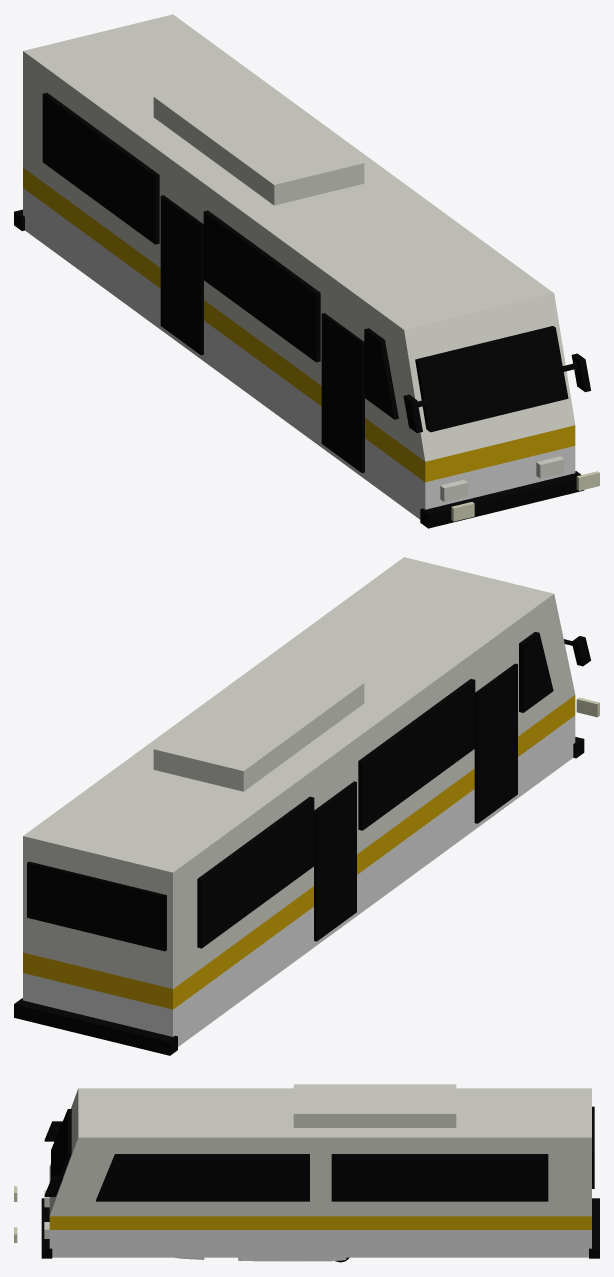
File: hanoi-vehicles.glb
3 renders of one model, top to bottom at view 1: azimuth 30°, elevation 25°; view 2: azimuth 150°, elevation 25°; view 3: azimuth 270°, elevation 25°, orthographic. The views are drawn at different scales.
Visible parts, largest first — view 1: bus; view 2: bus; view 3: bus, taxi.
Boxes of the visible parts, x1=… form: bus: x1=14, y1=14, x2=599, y2=528; bus: x1=14, y1=557, x2=599, y2=1055; bus: x1=14, y1=1084, x2=599, y2=1258; taxi: x1=175, y1=1257, x2=346, y2=1261.
Size of the model in its own units: 2.5 by 3.1 by 10.81.
